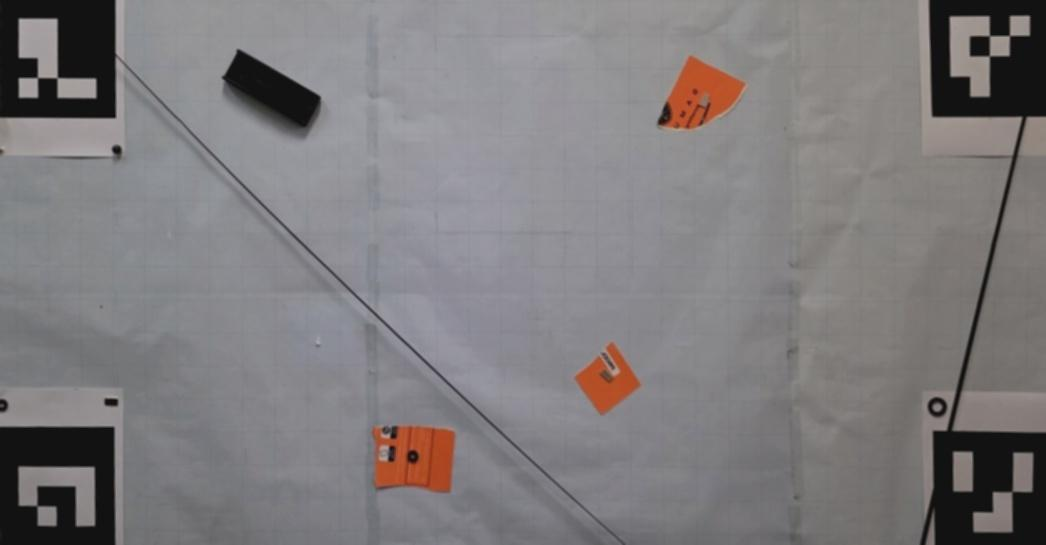obstacle: (222, 47, 321, 127), (657, 54, 746, 132), (369, 425, 455, 491), (575, 341, 640, 415)
